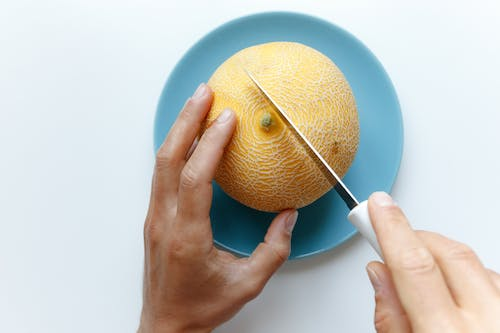knife: (244, 66, 387, 263)
